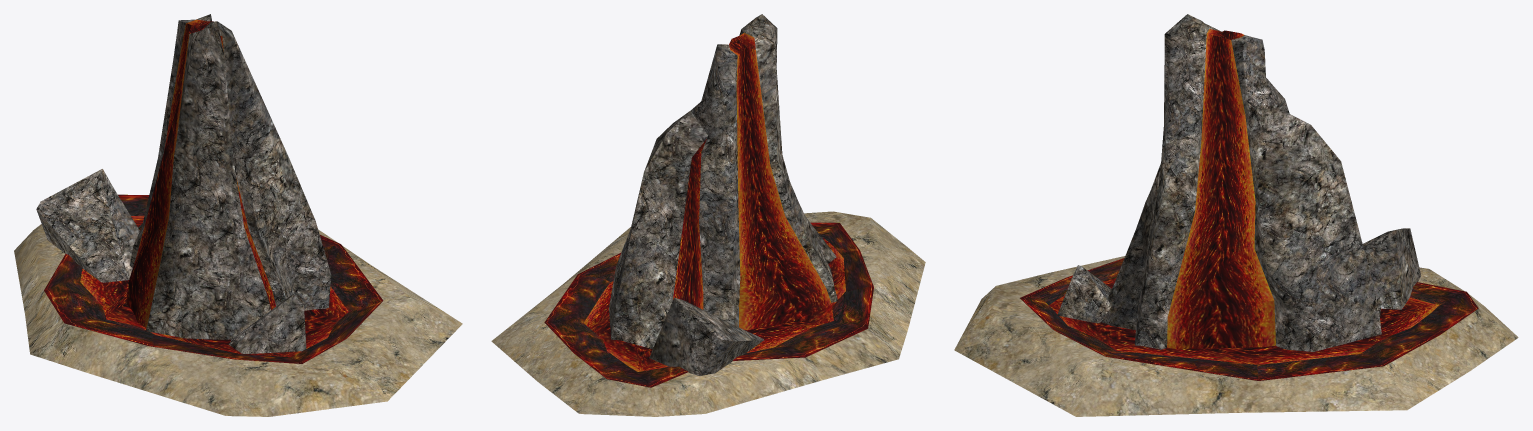
The model's file is pir_m_prp_cav_lavafall.fbx.
3 views of the same model, side by side, from view 1: azimuth 30°, elevation 25°; view 2: azimuth 150°, elevation 25°; view 3: azimuth 270°, elevation 25° (orthographic). The views are drawn at different scales.
Parts seen in each view (by area): view 1: rockPillar, mound, lavaCool_lip, rock01, lavaStream_front, lavaPool, rock02, lavaStream_thin; view 2: rockPillar, mound, lavaStream_front, lavaCool_lip, rock01, lavaPool, lavaStream_side; view 3: rockPillar, mound, lavaStream_back, lavaCool_lip, lavaPool, rock01, rock02.
Part boxes in pixels (x1=…): rockPillar: x1=130, y1=14, x2=331, y2=339; mound: x1=14, y1=224, x2=462, y2=416; lavaCool_lip: x1=44, y1=194, x2=383, y2=363; rock01: x1=36, y1=169, x2=139, y2=282; lavaStream_front: x1=126, y1=23, x2=192, y2=327; lavaPool: x1=80, y1=216, x2=348, y2=357; rock02: x1=229, y1=293, x2=306, y2=353; lavaStream_thin: x1=220, y1=35, x2=275, y2=309; rockPillar: x1=609, y1=14, x2=837, y2=349; mound: x1=491, y1=211, x2=925, y2=416; lavaStream_front: x1=736, y1=47, x2=831, y2=329; lavaCool_lip: x1=544, y1=222, x2=873, y2=387; rock01: x1=649, y1=297, x2=763, y2=375; lavaPool: x1=584, y1=238, x2=845, y2=371; lavaStream_side: x1=673, y1=139, x2=706, y2=309; rockPillar: x1=1101, y1=14, x2=1381, y2=351; mound: x1=954, y1=256, x2=1518, y2=416; lavaStream_back: x1=1167, y1=33, x2=1275, y2=349; lavaCool_lip: x1=1020, y1=258, x2=1478, y2=380; lavaPool: x1=1049, y1=278, x2=1438, y2=364; rock01: x1=1362, y1=228, x2=1420, y2=309; rock02: x1=1057, y1=265, x2=1111, y2=323.
Size of the model in its own units: 3393 by 2810 by 4642.
4 materials, 4 textured.
